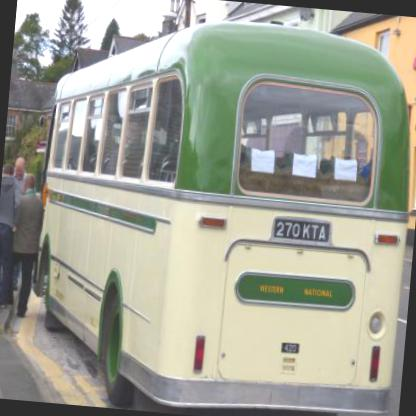bus: (12, 4, 415, 415)
